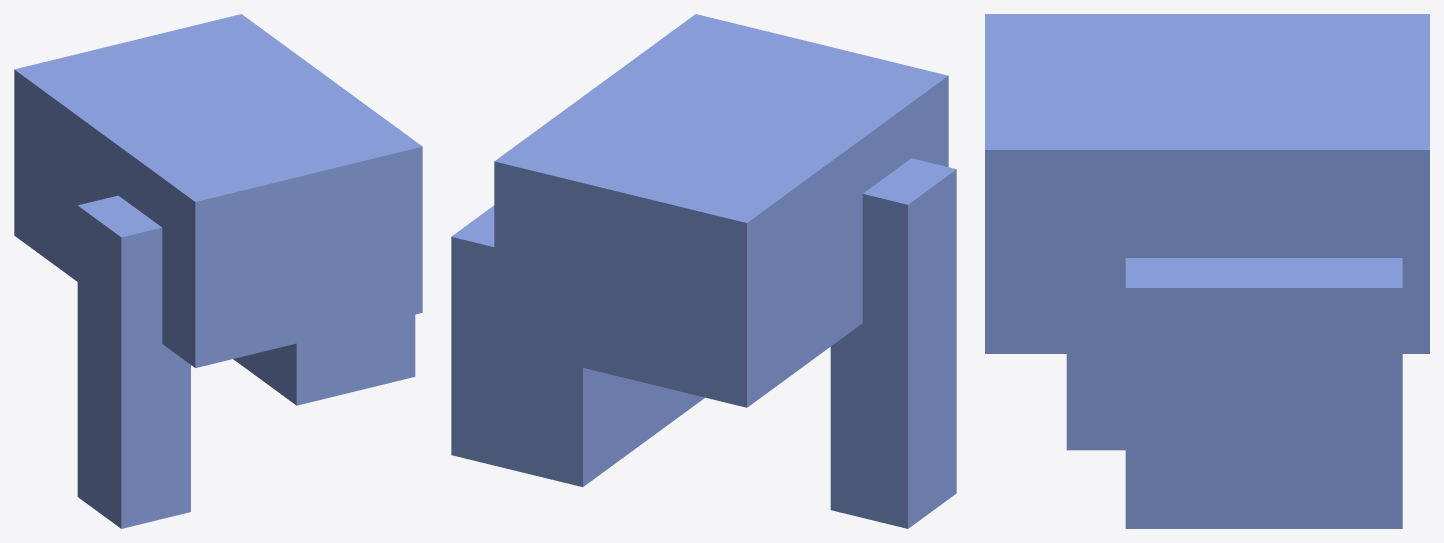
Rendered from floor6.fbx.
3 views of the same model, side by side, from view 1: azimuth 30°, elevation 25°; view 2: azimuth 150°, elevation 25°; view 3: azimuth 270°, elevation 25° (orthographic). The views are drawn at different scales.
Visible parts, largest first — view 1: Cube.018, Cube.020, Cube.019; view 2: Cube.018, Cube.020, Cube.019; view 3: Cube.018, Cube.019, Cube.020.
Boxes of the visible parts, x1,y1,x2,y2 form: Cube.018: [14, 14, 422, 367]; Cube.020: [77, 195, 190, 528]; Cube.019: [233, 314, 415, 405]; Cube.018: [494, 14, 948, 407]; Cube.020: [830, 158, 956, 528]; Cube.019: [451, 205, 704, 486]; Cube.018: [985, 14, 1429, 353]; Cube.019: [1125, 258, 1402, 528]; Cube.020: [1066, 354, 1125, 450].
Bounding box in the file's own units: 101 × 104 × 100.
